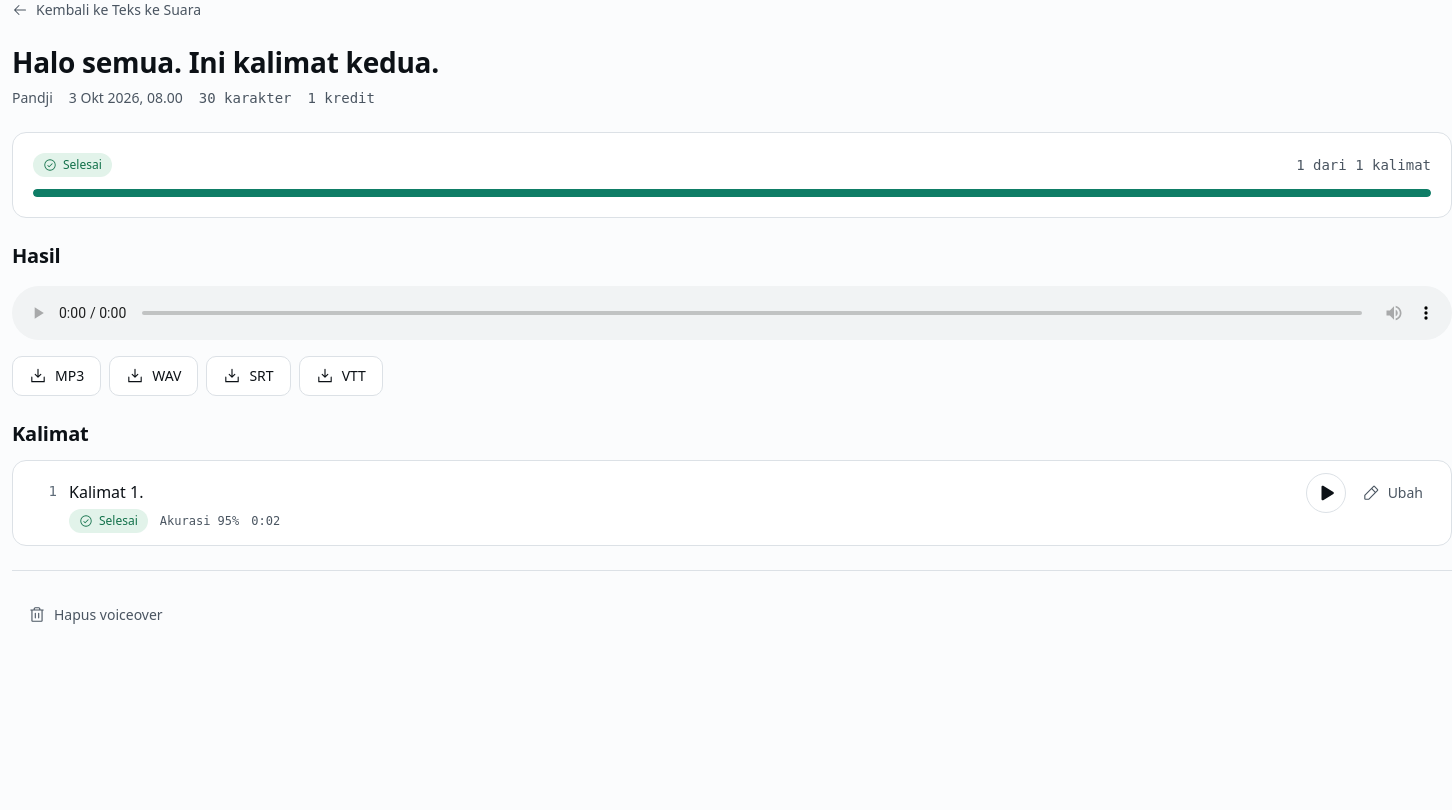
Test: JobPage › shows the busy reason when a regenerate is refused
The width and height of the screenshot is (1452, 810).
Click the button "Ubah" at (1392, 493), box [1350,475,1435,511]
(page scrolled)
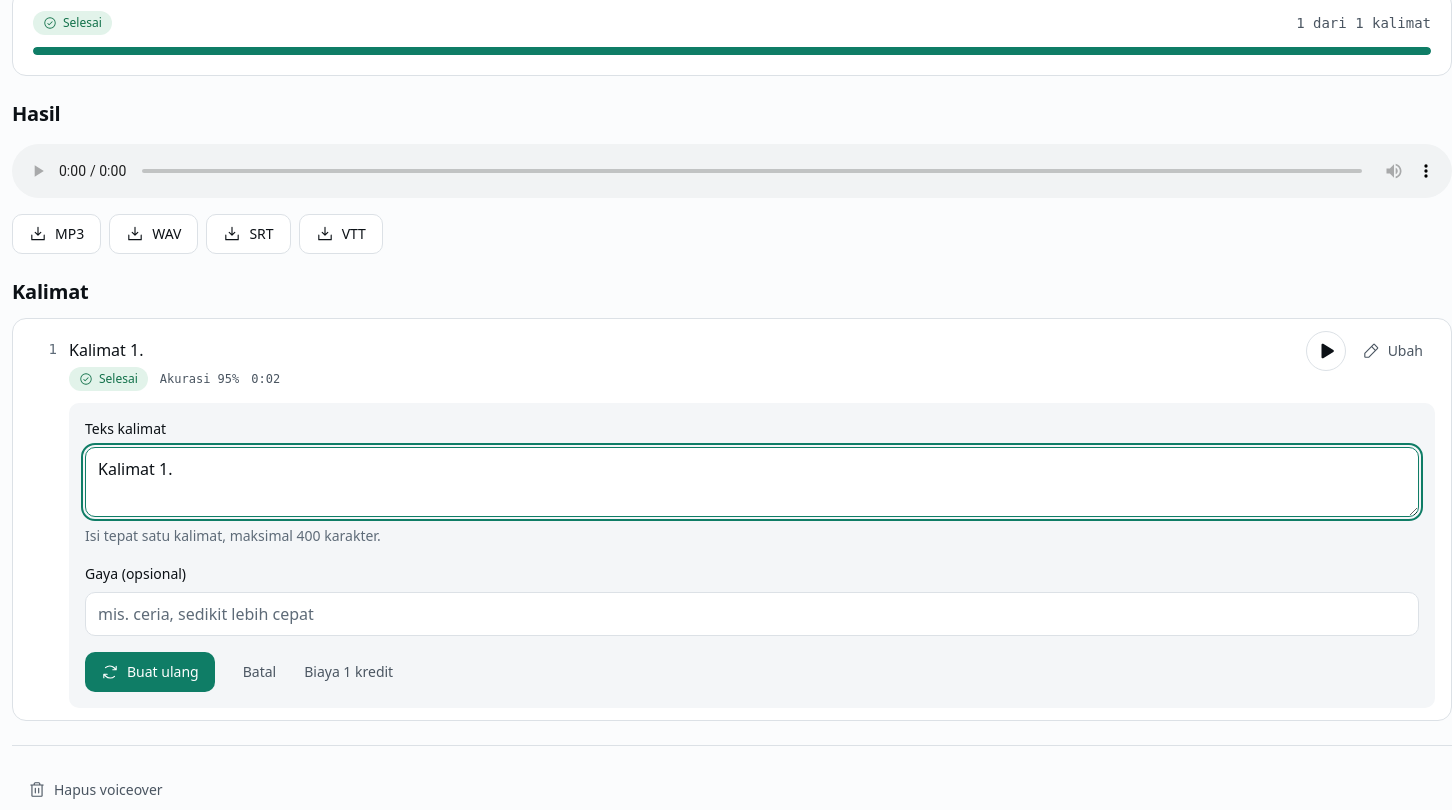
Click the button "Buat ulang" at (150, 672), box [85,652,215,692]
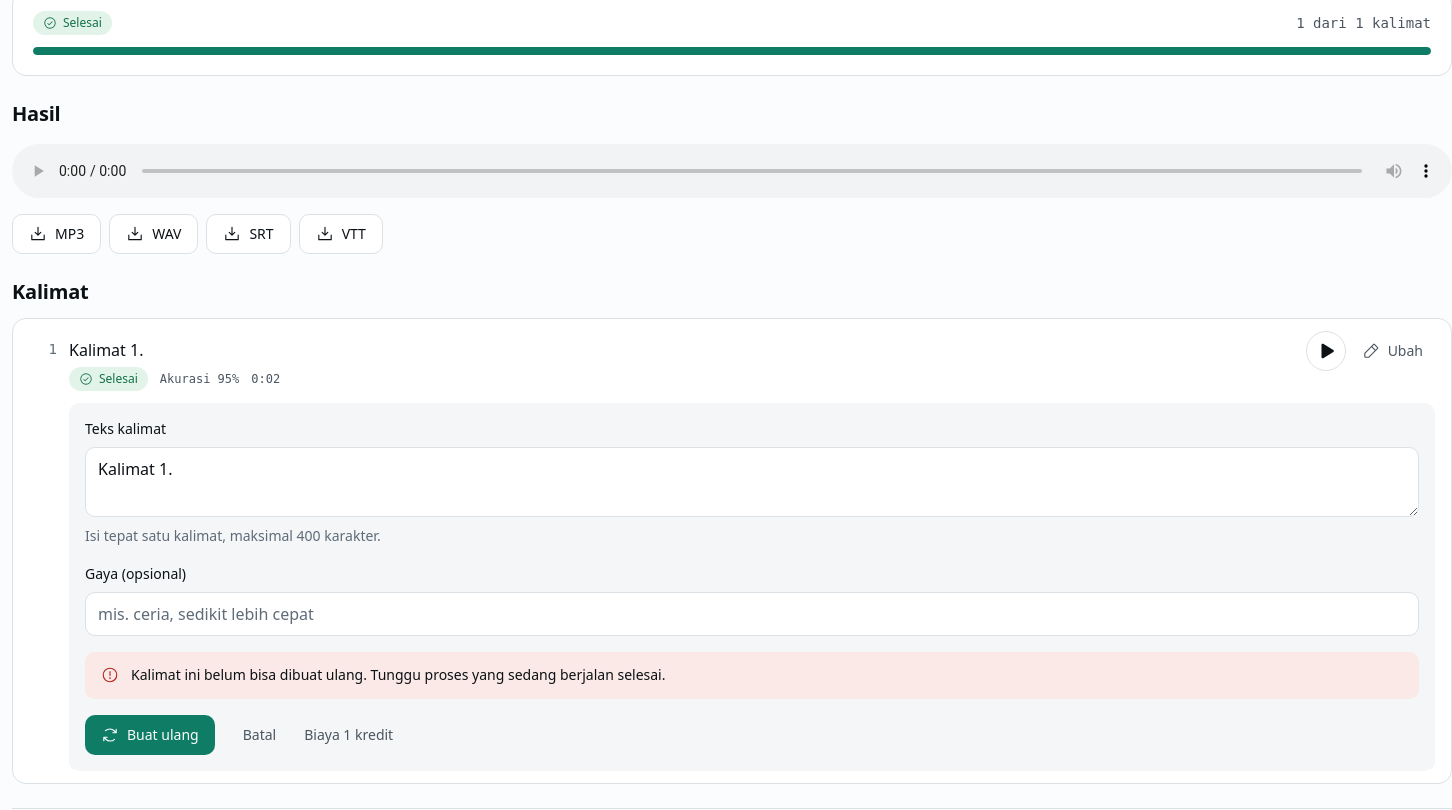
Check: the text "Kalimat ini belum bisa dibuat ulang. Tunggu proses yang sedang berjalan selesai." is shown, box [131,665,666,684]
